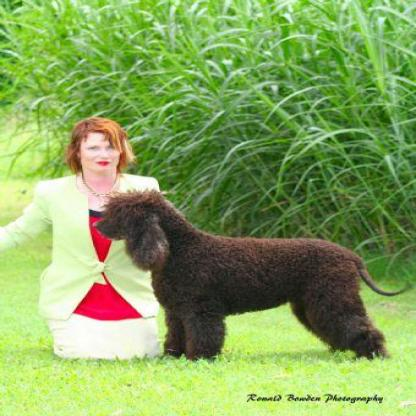Irish_water_spaniel: (90, 188, 413, 360)
